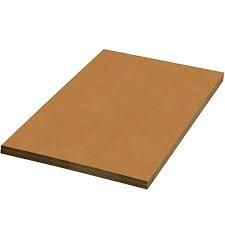plastic: (0, 27, 222, 198)
